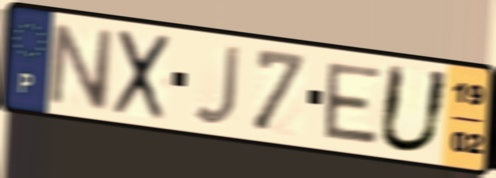7: (253, 45, 310, 135)
E: (323, 59, 384, 148)
J: (190, 44, 244, 129)
N: (46, 18, 115, 114)
U: (373, 60, 454, 157)
X: (109, 27, 174, 124)
